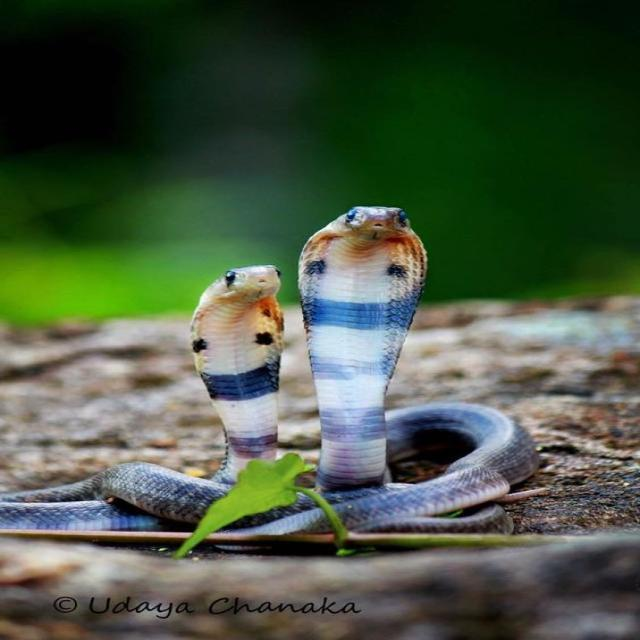Snake: (0, 185, 568, 566)
